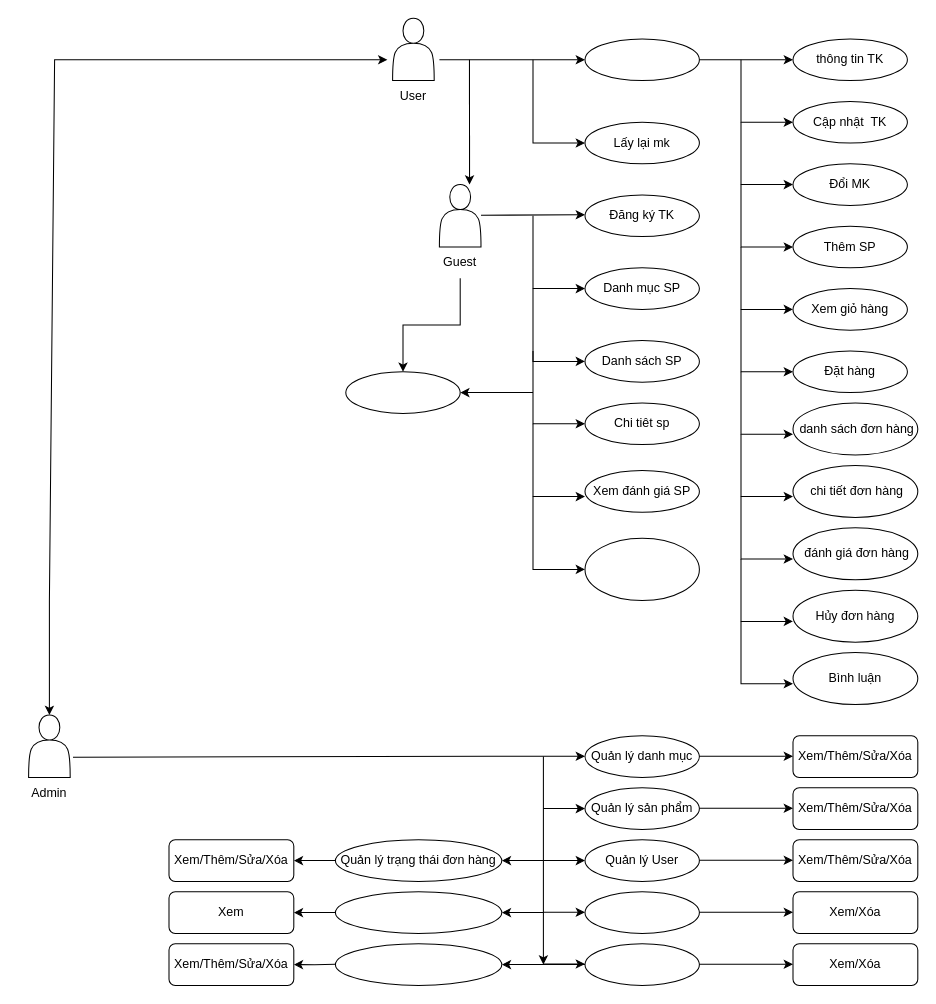
The diagram is 936 pixels wide and 1004 high, and some of its shapes have lost their labels. The shapes that lost their labels are listed below. From the top down, each one's centre as x and y in pixels, then its label:
At (641,59): "Đăng nhập".
At (402,392): "Tìm kiếm SP".
At (641,569): "Sản phẩm bán chạy nhất".
At (418,912): "Thống kê đánh giá".
At (641,912): "Quản lý bình luận".
At (418,964): "Quản lý đơn vị vận chuyển".
At (641,964): "Quản lý đơn hàng".
